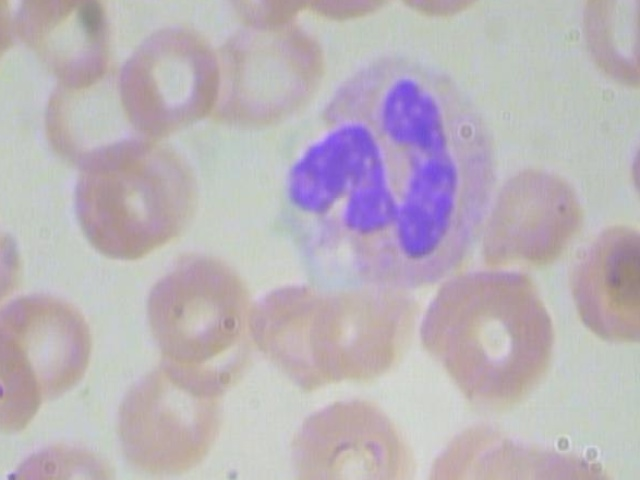RBC: (416, 277, 565, 406), (101, 353, 229, 480), (114, 19, 226, 144), (0, 283, 106, 408), (289, 383, 417, 480), (481, 165, 578, 275), (386, 0, 504, 20)
WBC: (272, 45, 504, 298)
